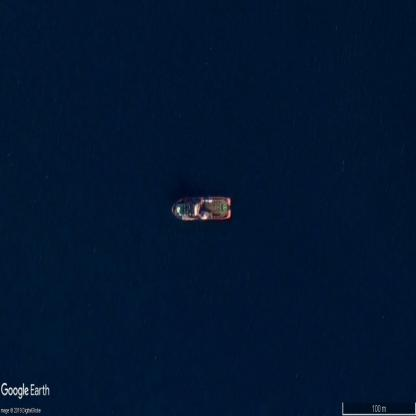ship: (170, 197, 232, 221)
